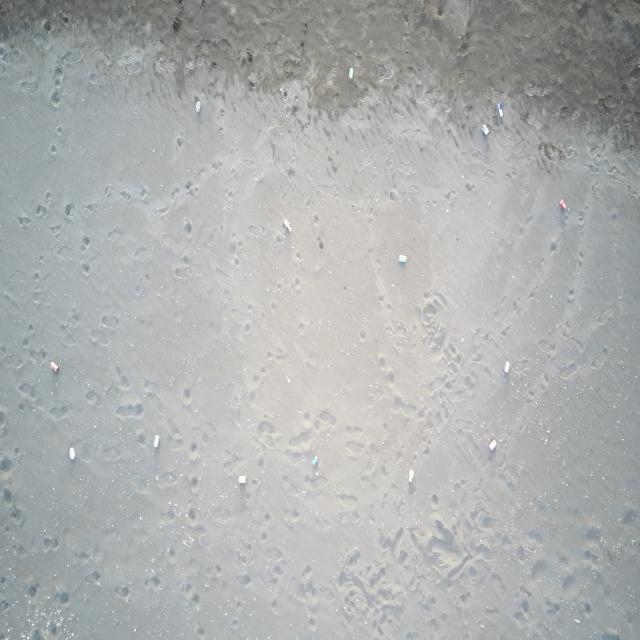Garbage: (49, 360, 59, 372), (496, 101, 503, 118), (283, 218, 291, 232), (487, 439, 495, 451), (68, 447, 75, 460), (503, 360, 510, 373), (397, 253, 406, 263), (407, 468, 413, 483), (152, 435, 159, 447), (480, 124, 487, 135), (238, 475, 246, 484), (195, 98, 200, 111), (560, 199, 567, 208), (347, 67, 352, 79), (312, 456, 318, 464)
